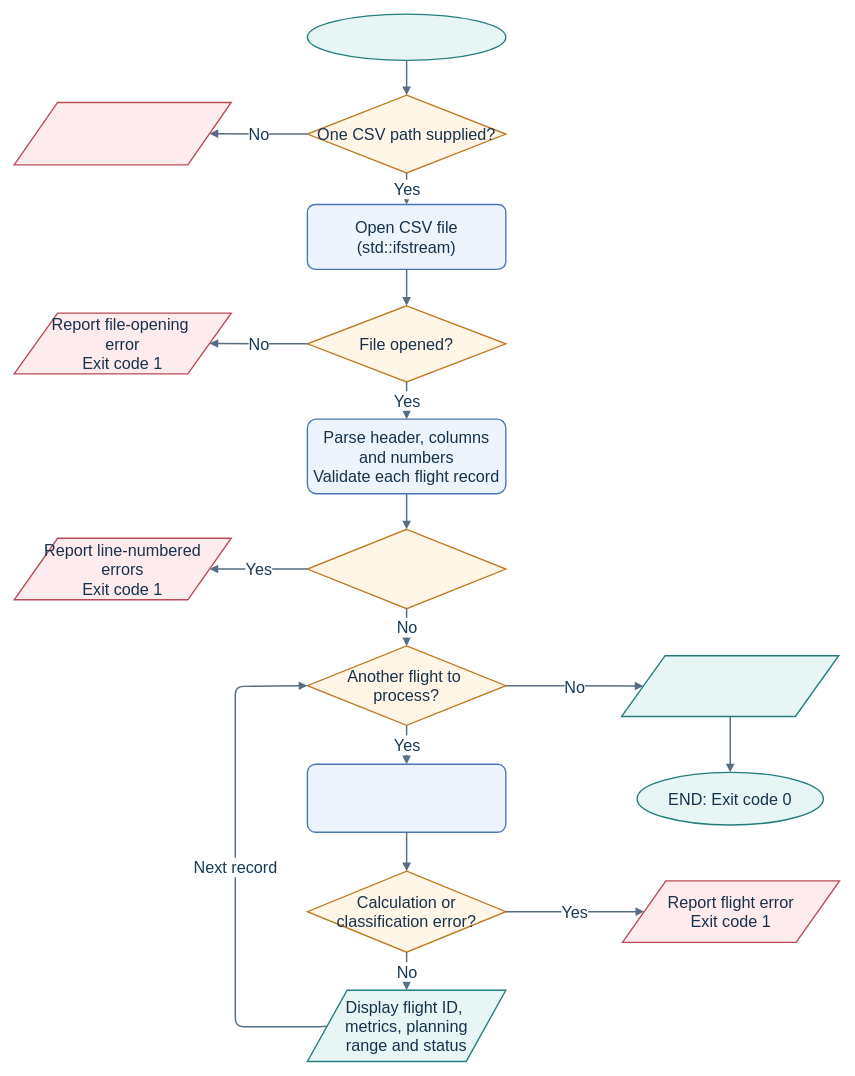
This 855x1076 diagram has some shape labels left out. The centre of each missing label's shape, as x and y in pixels:
Calculate fuel and classify status (see Diagram 2): (x=406, y=798)
Display total number of processed flights: (x=730, y=686)
Display usage message Exit code 1: (x=122, y=133)
Read failure or CSV errors?: (x=406, y=568)
START: (x=406, y=37)
